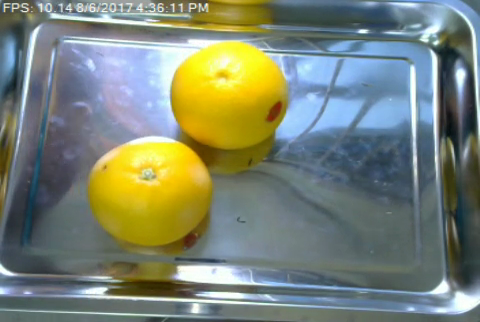Orange: (87, 136, 213, 244), (170, 40, 290, 150)
